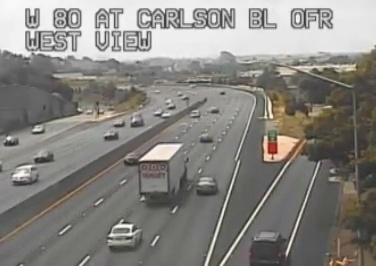car: (249, 231, 283, 266), (107, 224, 141, 250), (196, 177, 216, 193), (123, 153, 141, 166)
truck: (137, 142, 186, 203)
